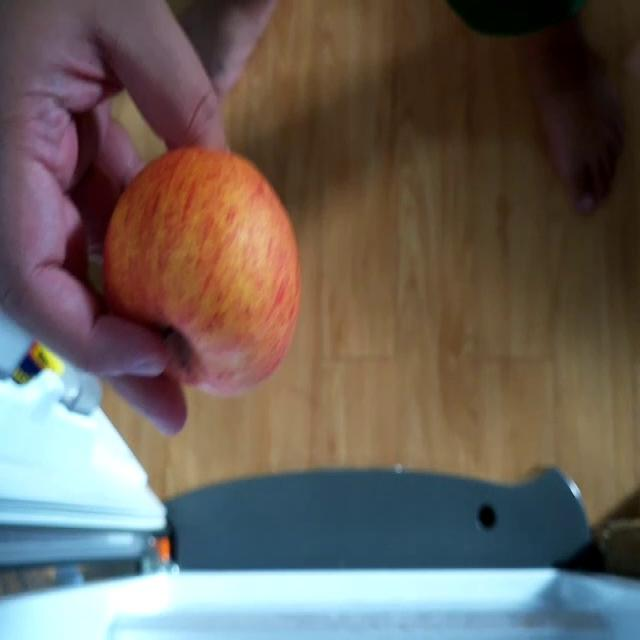apple: (95, 155, 295, 394)
